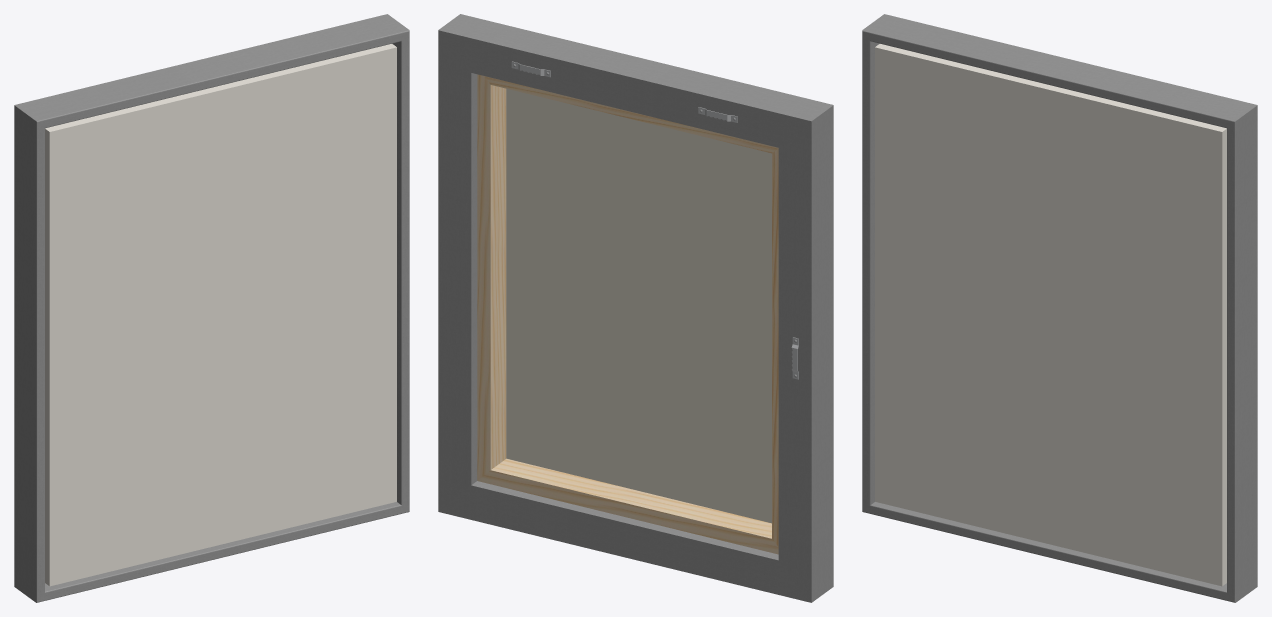
Rendered from decoded-from-delivery.glb.
3 renders of one model, left to right at view 1: azimuth 30°, elevation 25°; view 2: azimuth 150°, elevation 25°; view 3: azimuth 330°, elevation 25°, orthographic.
Visible parts, largest first — view 1: Canvas artwork front, Tray approved profile 0; view 2: Canvas linen reverse, Tray approved profile 0, Stretcher top, Sawtooth hanger 0; view 3: Canvas artwork front, Tray approved profile 0.
Boxes of the visible parts, x1,y1,x2,y2 form: Canvas artwork front: (45,44,396,586); Tray approved profile 0: (14,14,409,602); Canvas linen reverse: (506,88,771,523); Tray approved profile 0: (438,14,833,602); Stretcher top: (477,74,778,554); Sawtooth hanger 0: (511,61,798,379); Canvas artwork front: (875,44,1226,586); Tray approved profile 0: (862,14,1257,602).
Bounding box in the file's own units: 0.43 × 0.53 × 0.0474.
7 materials, 3 textured.
